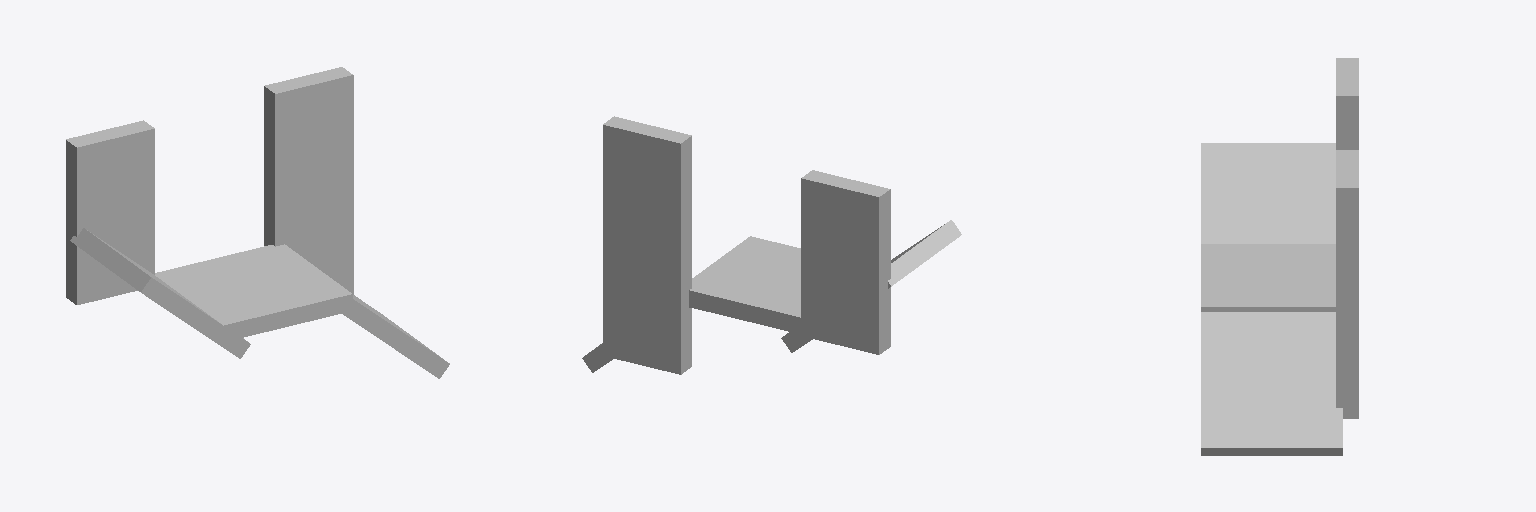
File: TestObjWithMaterials.obj
3 views of the same model, side by side, from view 1: azimuth 30°, elevation 25°; view 2: azimuth 150°, elevation 25°; view 3: azimuth 270°, elevation 25° (orthographic).
Visible parts, largest first — view 1: Cube.002_Cube.003, Cube.001_Cube.002, Cube.003_Cube.004, Cube.004_Cube.005, Cube.005_Cube.006; view 2: Cube.002_Cube.003, Cube.001_Cube.002, Cube.003_Cube.004, Cube.004_Cube.005; view 3: Cube.005_Cube.006, Cube.004_Cube.005, Cube.003_Cube.004, Cube.002_Cube.003, Cube.001_Cube.002.
Boxes of the visible parts, <box> form: Cube.002_Cube.003: <box>264,67,353,294</box>; Cube.001_Cube.002: <box>66,120,154,304</box>; Cube.003_Cube.004: <box>155,244,352,342</box>; Cube.004_Cube.005: <box>70,228,250,358</box>; Cube.005_Cube.006: <box>342,295,449,378</box>; Cube.002_Cube.003: <box>603,116,691,374</box>; Cube.001_Cube.002: <box>801,170,890,354</box>; Cube.003_Cube.004: <box>689,236,800,333</box>; Cube.004_Cube.005: <box>781,220,961,352</box>; Cube.005_Cube.006: <box>1201,312,1342,455</box>; Cube.004_Cube.005: <box>1201,143,1335,243</box>; Cube.003_Cube.004: <box>1201,244,1335,311</box>; Cube.002_Cube.003: <box>1336,150,1358,418</box>; Cube.001_Cube.002: <box>1336,58,1358,149</box>.
Bounding box in the file's own units: 14.13 × 11.31 × 6.25.